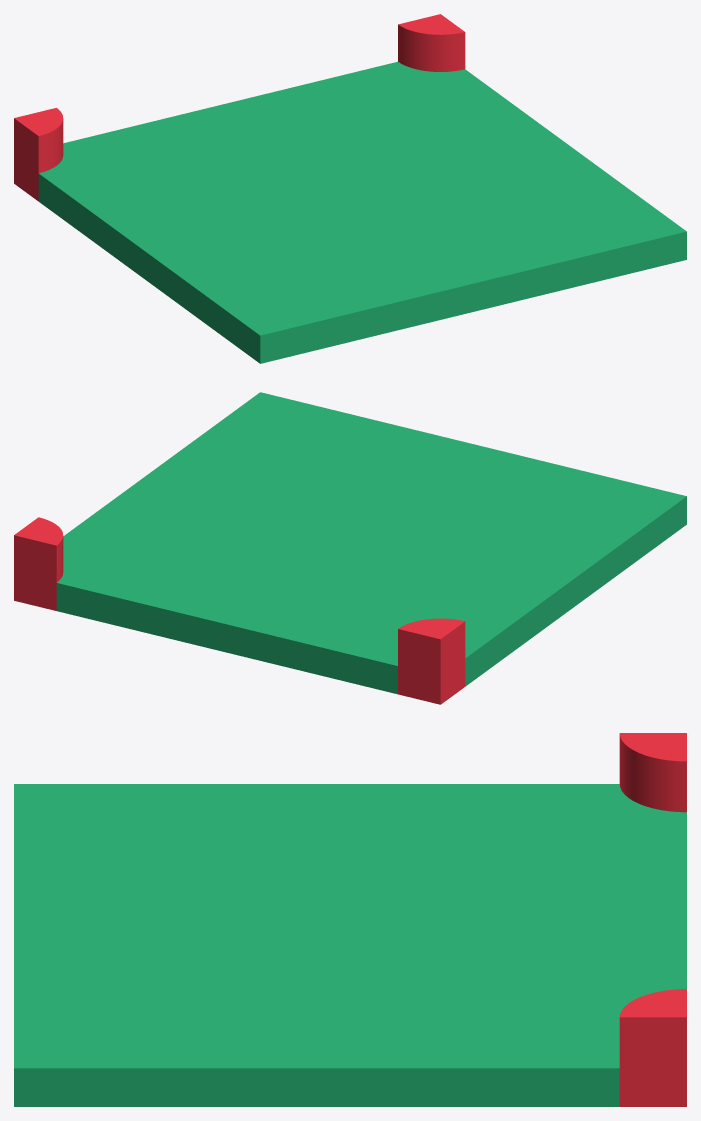
File: wallsToOpen.fbx
3 renders of one model, top to bottom at view 1: azimuth 30°, elevation 25°; view 2: azimuth 150°, elevation 25°; view 3: azimuth 270°, elevation 25°, orthographic. The views are drawn at different scales.
Parts seen in each view (by area): view 1: wallsToOpen; view 2: wallsToOpen; view 3: wallsToOpen.
Boxes of the visible parts, <box> form: wallsToOpen: <box>14,14,686,363</box>; wallsToOpen: <box>14,392,686,704</box>; wallsToOpen: <box>14,733,686,1106</box>.
Bounding box in the file's own units: 10 × 1.47 × 10.
